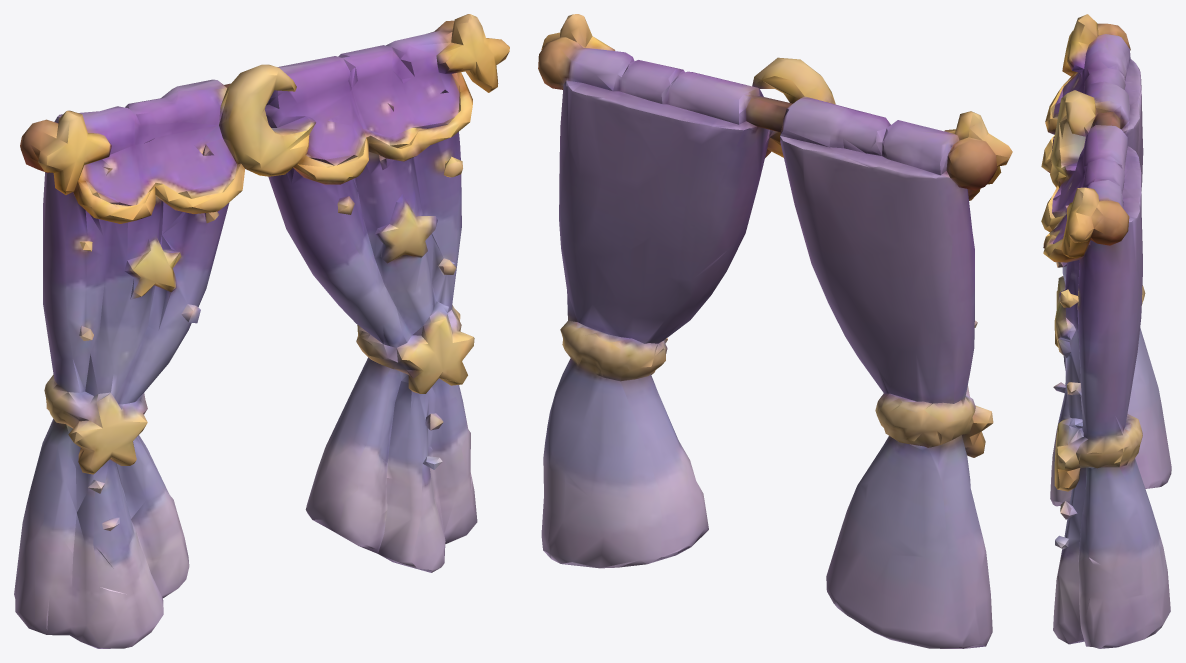
File: curtain23.glb
The picture shows the model from 3 angles, left to right: view 1: azimuth 30°, elevation 25°; view 2: azimuth 150°, elevation 25°; view 3: azimuth 270°, elevation 25°; orthographic projection. The views are drawn at different scales.
Bounding box in the file's own units: 0.236 × 0.2589 × 0.0643.
1 material, 1 textured.
